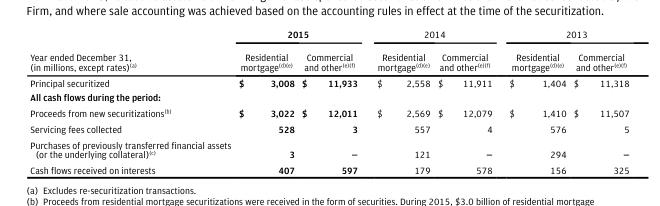table: (29, 28, 628, 175)
table column: (29, 28, 234, 175), (297, 28, 366, 175), (500, 28, 569, 175), (366, 28, 433, 175), (433, 28, 500, 175), (234, 28, 297, 175), (569, 28, 628, 175)
table column header: (29, 28, 628, 74)
table projected row header: (29, 89, 628, 105)
table row: (29, 45, 628, 74), (29, 136, 628, 162), (29, 28, 628, 45), (29, 89, 628, 105), (29, 120, 628, 136), (29, 74, 628, 89), (29, 105, 628, 120), (29, 162, 628, 175)
table spanning cell: (29, 28, 234, 74), (366, 28, 500, 45), (234, 28, 366, 45), (500, 28, 628, 45)
